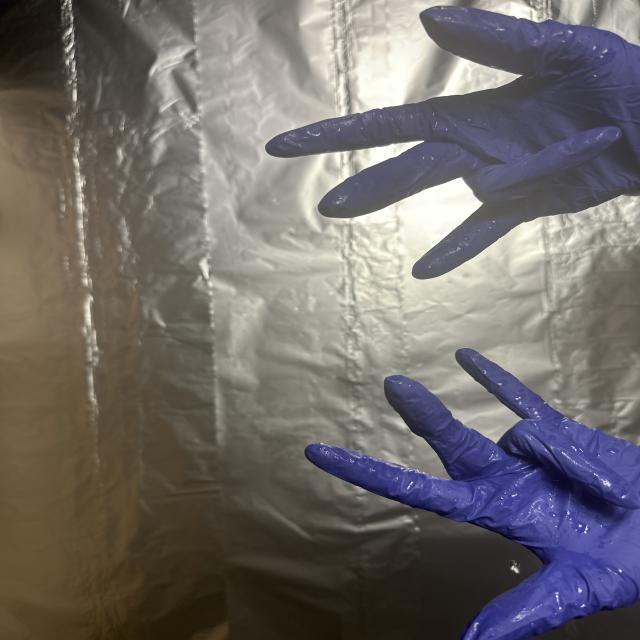gloves_contaminated: (266, 6, 640, 279), (305, 348, 640, 640)
